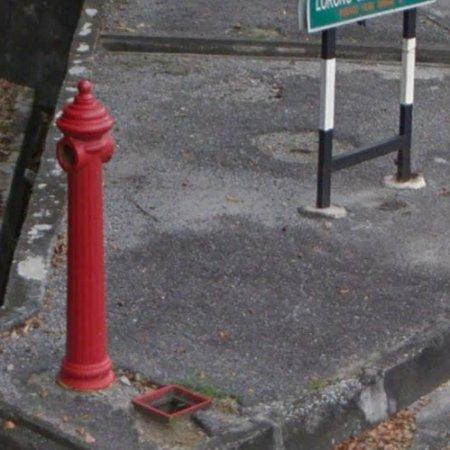a fire hydrant: (55, 80, 114, 392)
